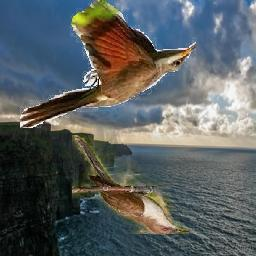Cuckoo: (20, 0, 196, 128), (73, 136, 190, 235)
